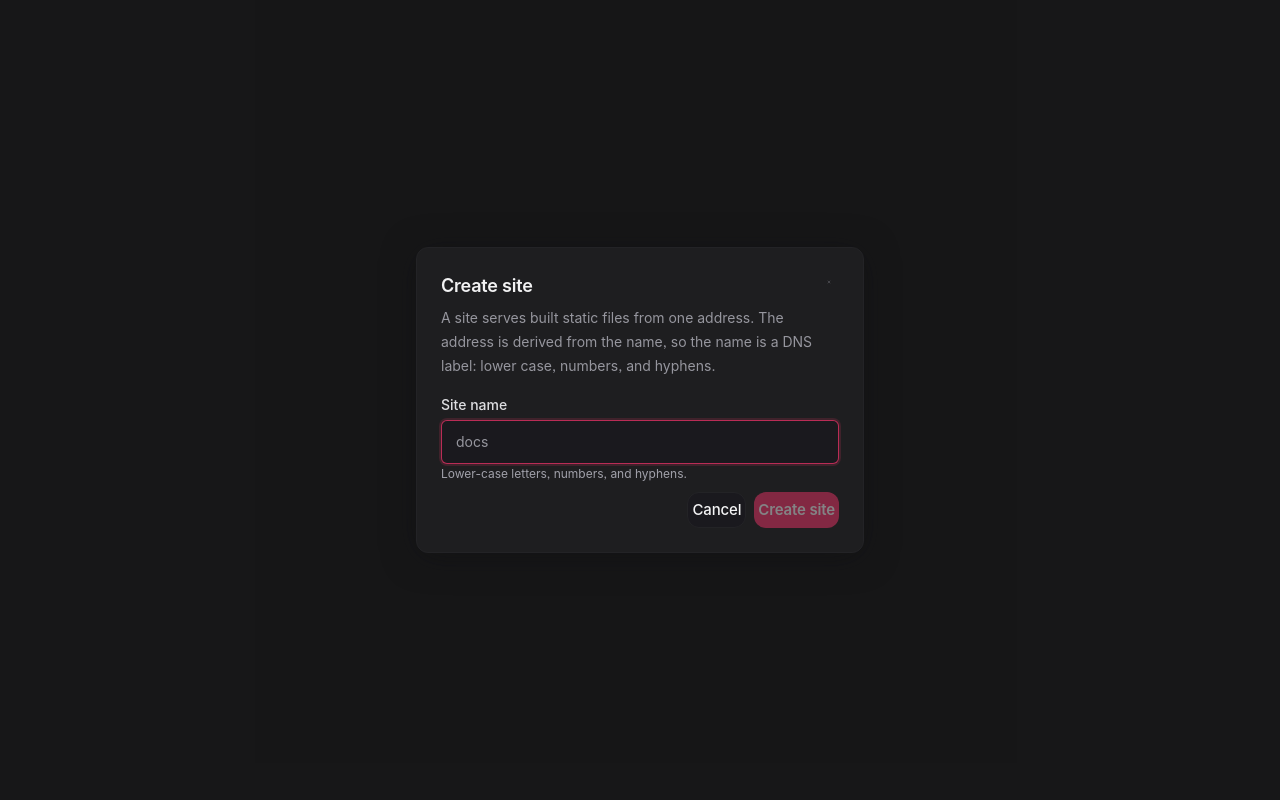
Test case: CreateSiteDialog › normalizes the name and says what will be created
Step 1. Type "Docs Site" into the field labelled "Site name" → x=640, y=442, box left=441, top=420, right=839, bottom=464
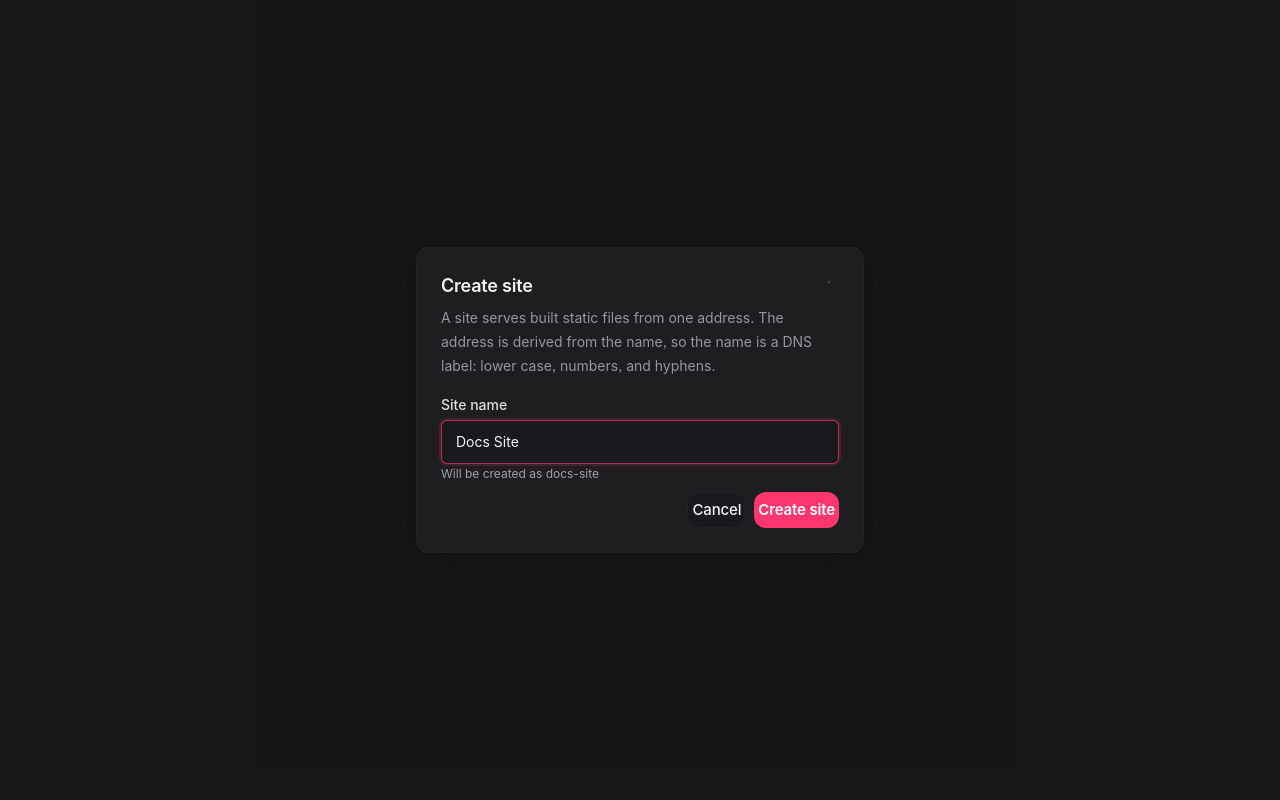
Expected: the text "Will be created as docs-site" is shown, left=441, top=466, right=599, bottom=481
